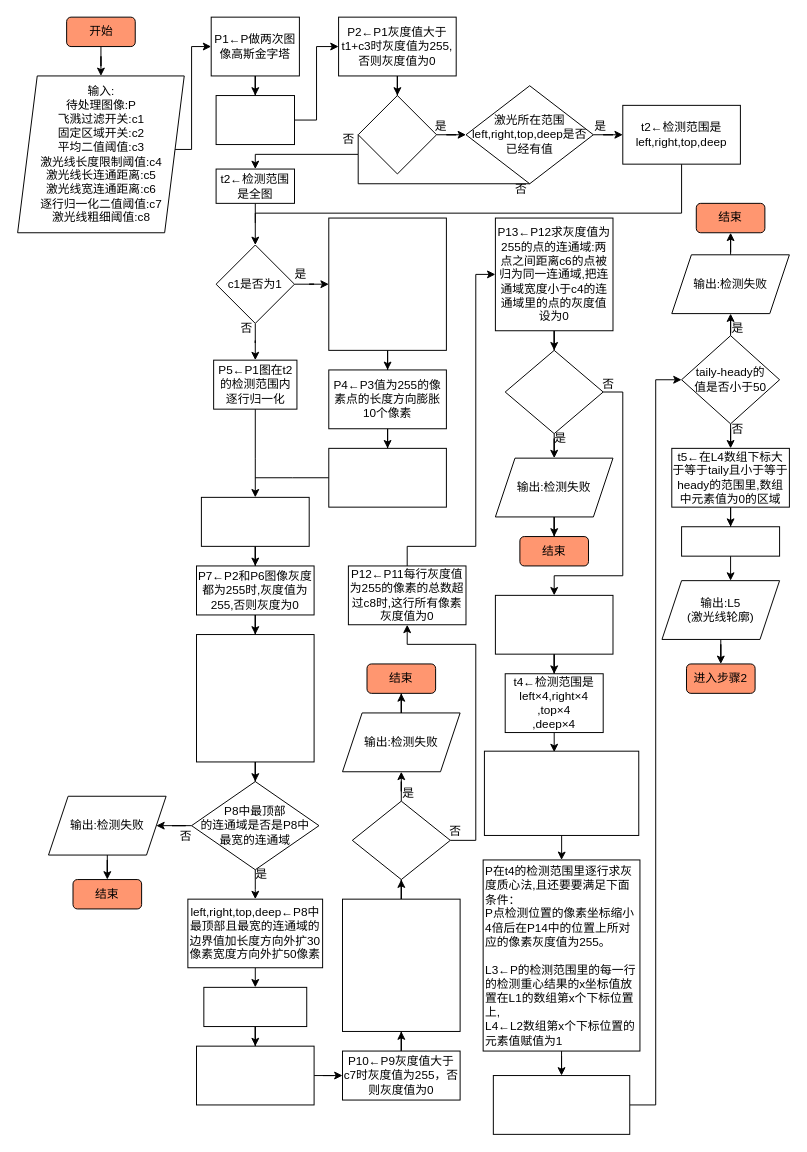
Image size: 807x1152. Some labels were removed from this diagram. The centre of each missing label's shape, as x and y in pixels:
c2是否为1: point 397,134
heady←L2数组内存中第一个元素值为1的下标值 taily←L2数组内存中最后一个元素值为1的下标值: point 561,1104
L1←创建一个1×row的数组,里面全赋值为0 L2←创建一个1xrow的数组,里面全赋值为0 其中row的值为P的图像宽度: point 561,792
L5←L3在t5的范围里做线性插值: point 730,541
P11←P10求灰度值为255的点的连通域:两点之间长度距离小于c5的点和宽度距离小于c6的点被归为同一连通域,把连通域宽度小于c4的连通域里的点的灰度值设为0: point 401,964
P11中的像 素灰度值是否 全为0: point 400,840
P13中的像 素灰度值是否 全为0: point 553,391
P14←P13值为255的像素点的长度方向膨胀2个像素: point 553,624
P3←P2求灰度值为255的点的连通域:两点之间长度距离小于c5的点和宽度距离小于c6的点被归为同一连通域,把连通域宽度小于c4的连通域里的点的灰度值设为0: point 387,283
P5←P1图在t2的检测范围内且在P4灰度值为255的位置上逐行归一化: point 387,477
P6←P5灰度值大于c7时灰度值为255，否则灰度值为0: point 254,521
P8←P7求灰度值为255的点的连通域:两点之间长度距离小于c5的点和宽度距离小于c6的点被归为同一连通域,把连通域宽度小于c4的连通域里的点的灰度值设为0: point 255,698
P9←P1在t3的检测范围内且在P7灰度值为255的位置上逐行归一化: point 255,1075
t1←P1求全图像素灰度平均值: point 254,120
t3←检测范围是left,right,top,deep: point 255,1006
